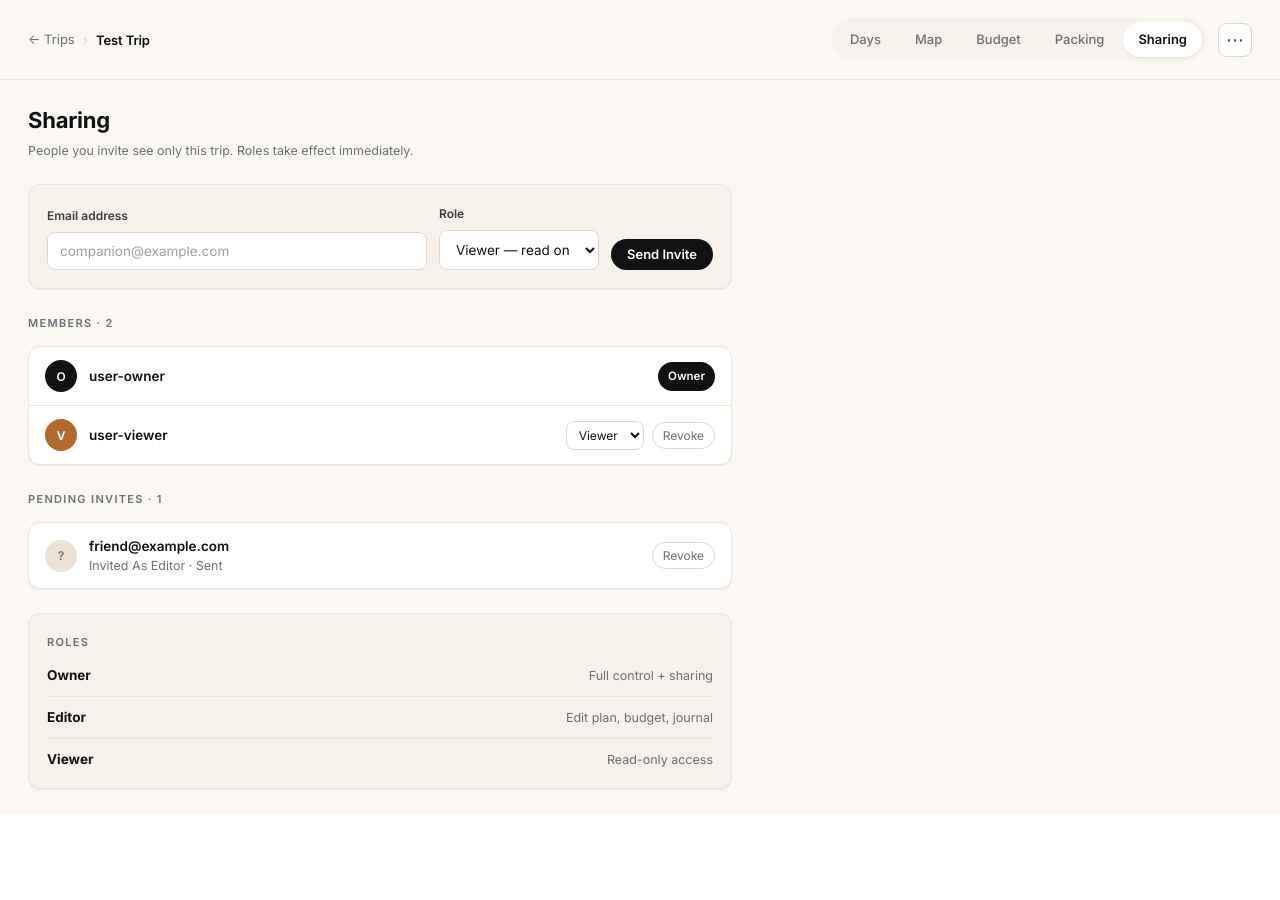
Test case: TripSharingPage › shows error when invite fails
The image size is (1280, 900).
Type "fail@example.com" into the field labelled "Email address" at (237,251), box [47, 232, 427, 270]
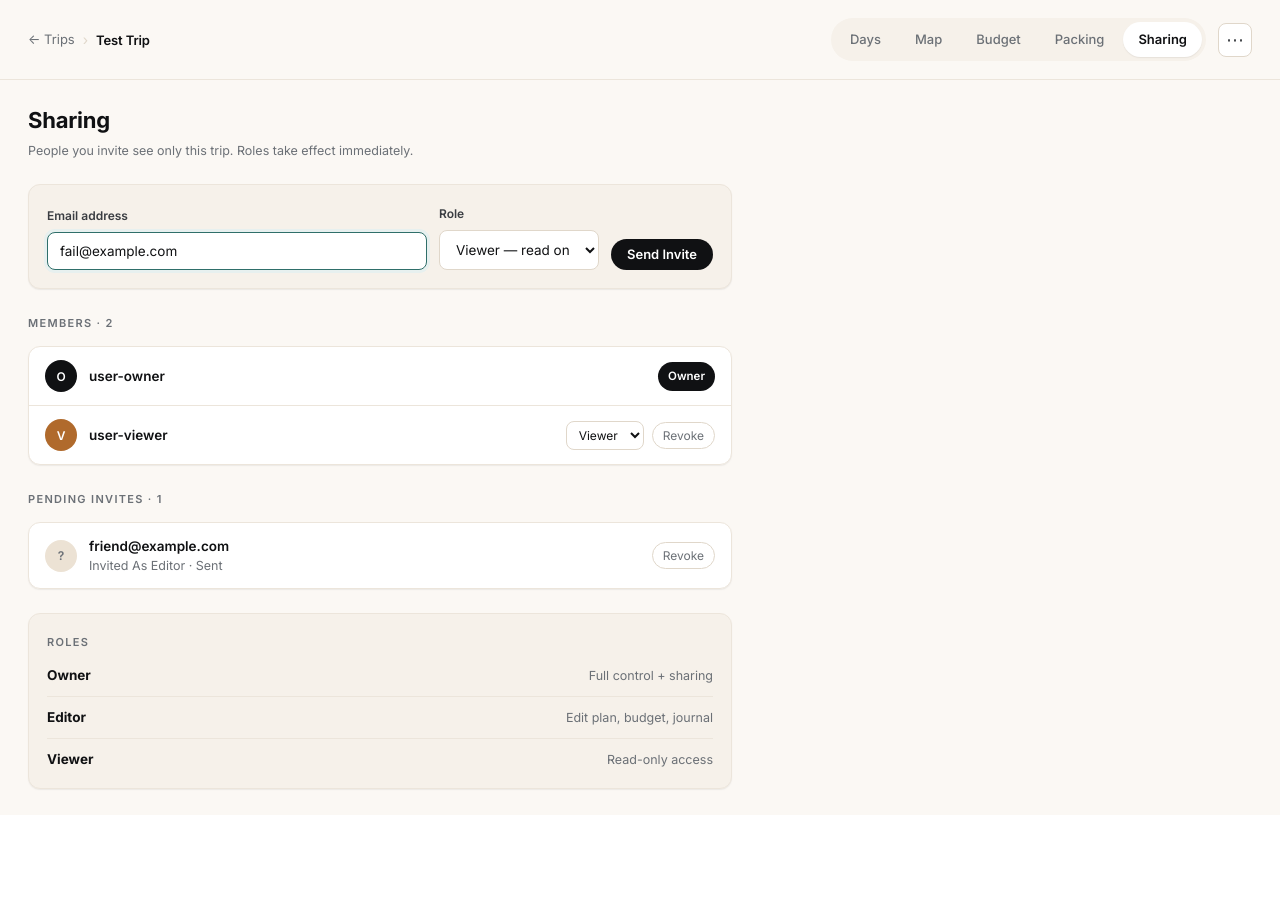
Click the button "Send Invite" at (662,254), box [611, 239, 713, 270]
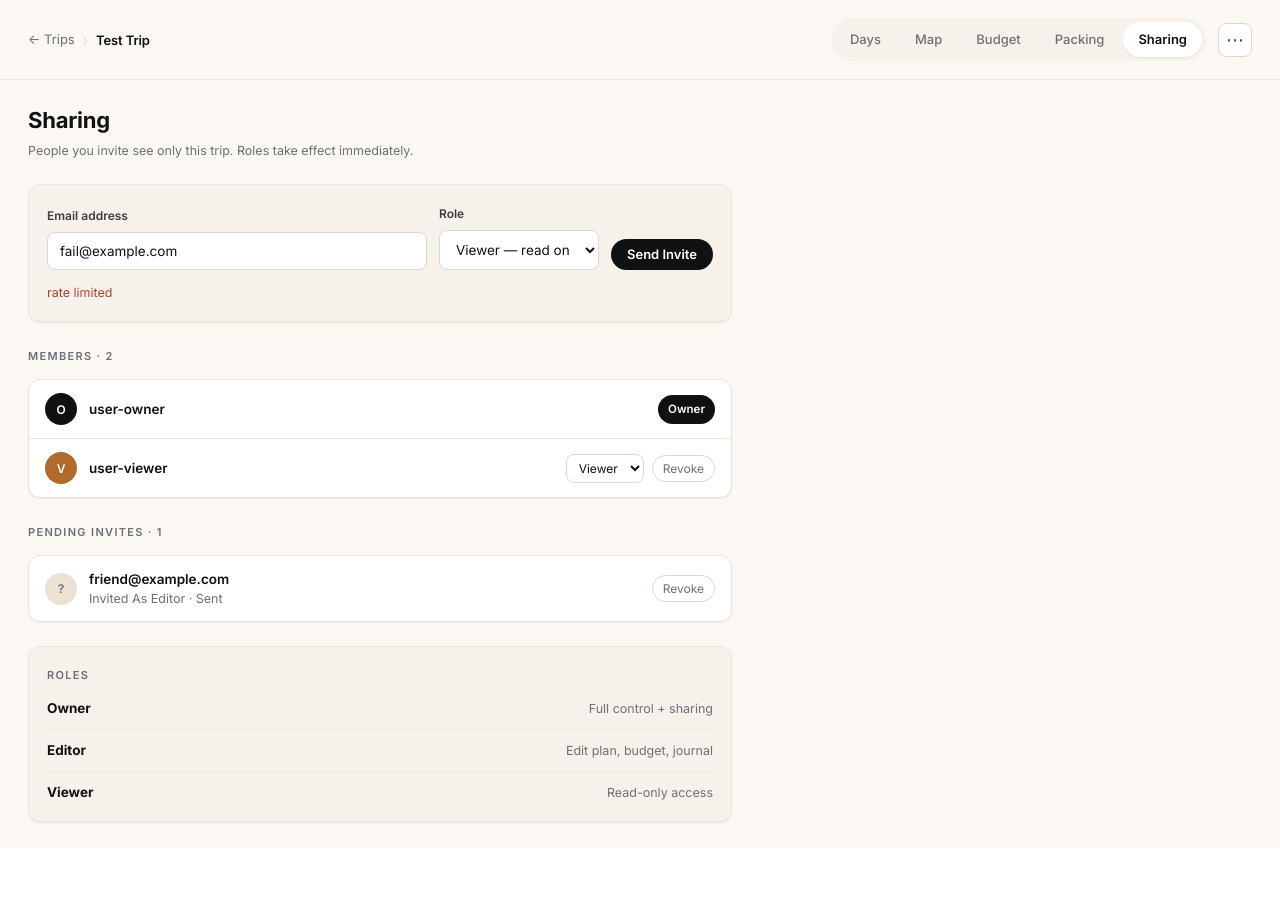
Expected: the message reads "rate limited", [47, 285, 112, 300]
